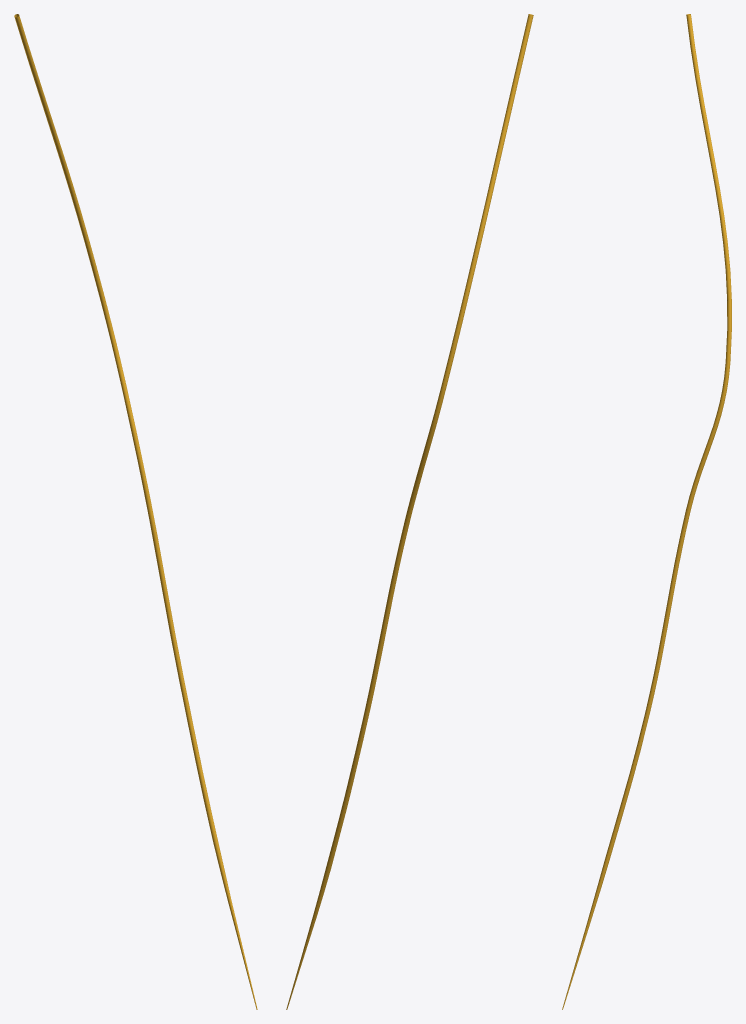
The model's file is nervoso-anterior-interosseous-nerve-of-forearm-l.glb.
3 views of the same model, side by side, from view 1: azimuth 30°, elevation 25°; view 2: azimuth 210°, elevation 25°; view 3: azimuth 270°, elevation 25° (orthographic). The views are drawn at different scales.
Visible parts, largest first — view 1: Anterior interosseous nerve of forearm.l; view 2: Anterior interosseous nerve of forearm.l; view 3: Anterior interosseous nerve of forearm.l.
Boxes of the visible parts, x1,y1,x2,y2 form: Anterior interosseous nerve of forearm.l: [14, 14, 257, 1009]; Anterior interosseous nerve of forearm.l: [286, 14, 533, 1009]; Anterior interosseous nerve of forearm.l: [562, 14, 731, 1009].
Size of the model in its own units: 0.0389 by 0.2097 by 0.0352.
